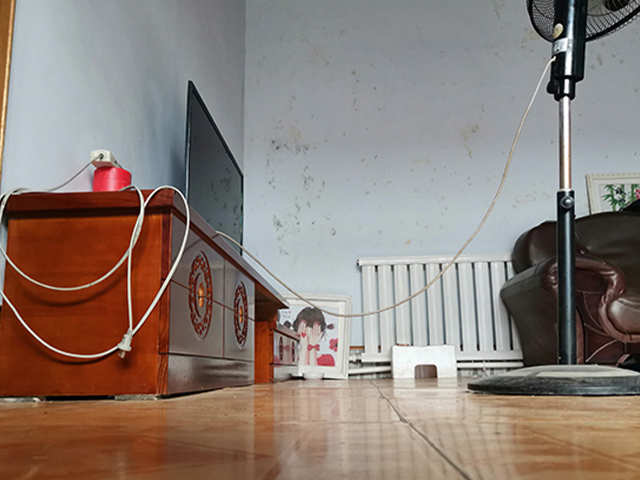cabinet: (1, 180, 305, 407)
sofa: (498, 199, 640, 368)
wire: (115, 182, 192, 360)
